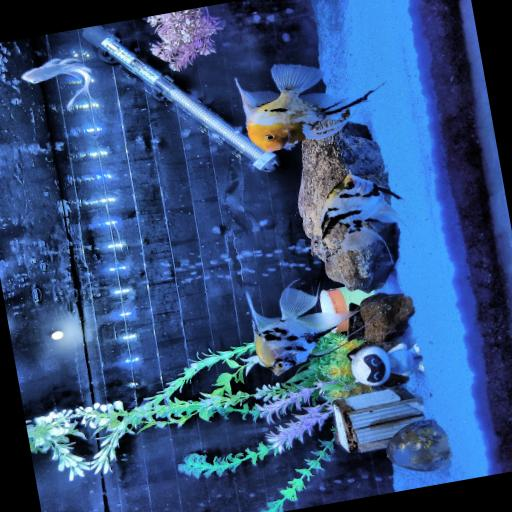Fish: (237, 64, 373, 151), (247, 287, 353, 374), (321, 174, 401, 250), (22, 57, 91, 109)
